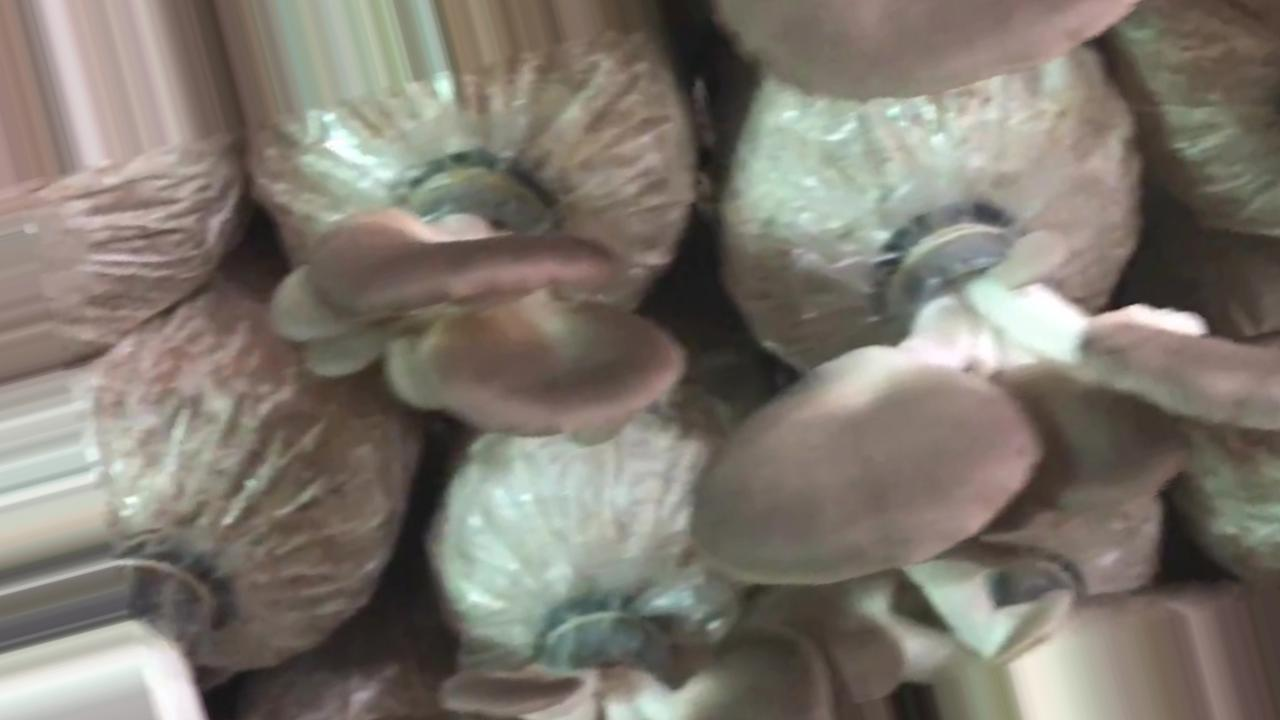nam: (703, 202, 1280, 594), (271, 157, 689, 462), (727, 6, 1138, 107)
